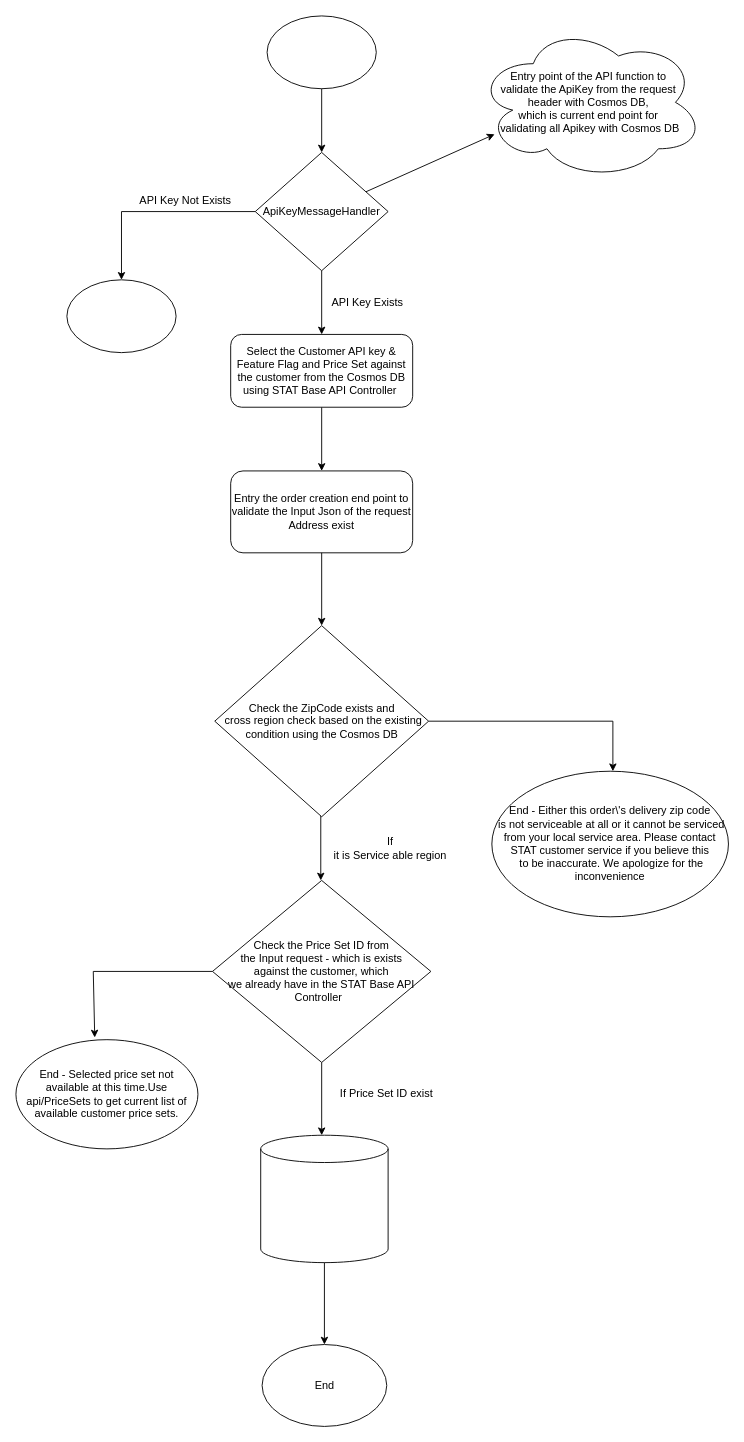
Some shapes in this 744 by 1442 pixel diagram are drawn without their labels. The shapes that lost their labels are listed below. From the top down, each one's centre as x and y in pixels, then its label:
At point (321, 52): "Start vNext Order creation API end Point".
At point (121, 316): "End with Response API Key not valid".
At point (324, 1198): "Store the Order request in the Cosmos DB and return the response".
